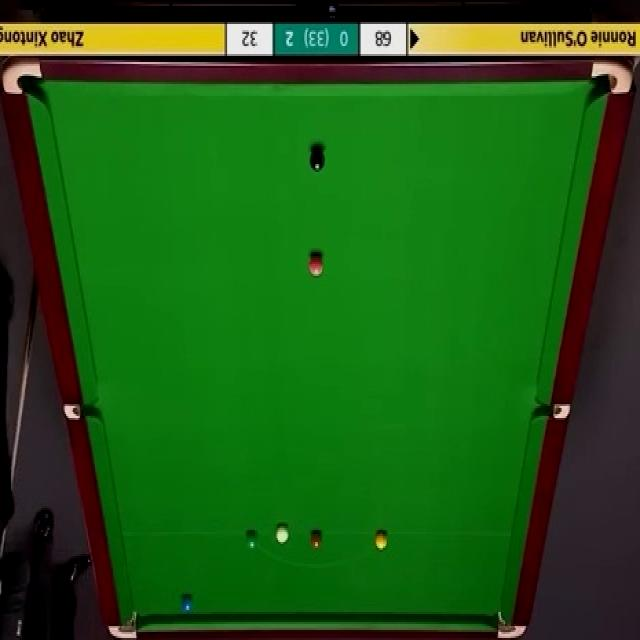pocket: (0, 57, 42, 100), (588, 63, 633, 99), (494, 608, 531, 640), (108, 611, 140, 640), (66, 402, 103, 420), (533, 403, 572, 419)
